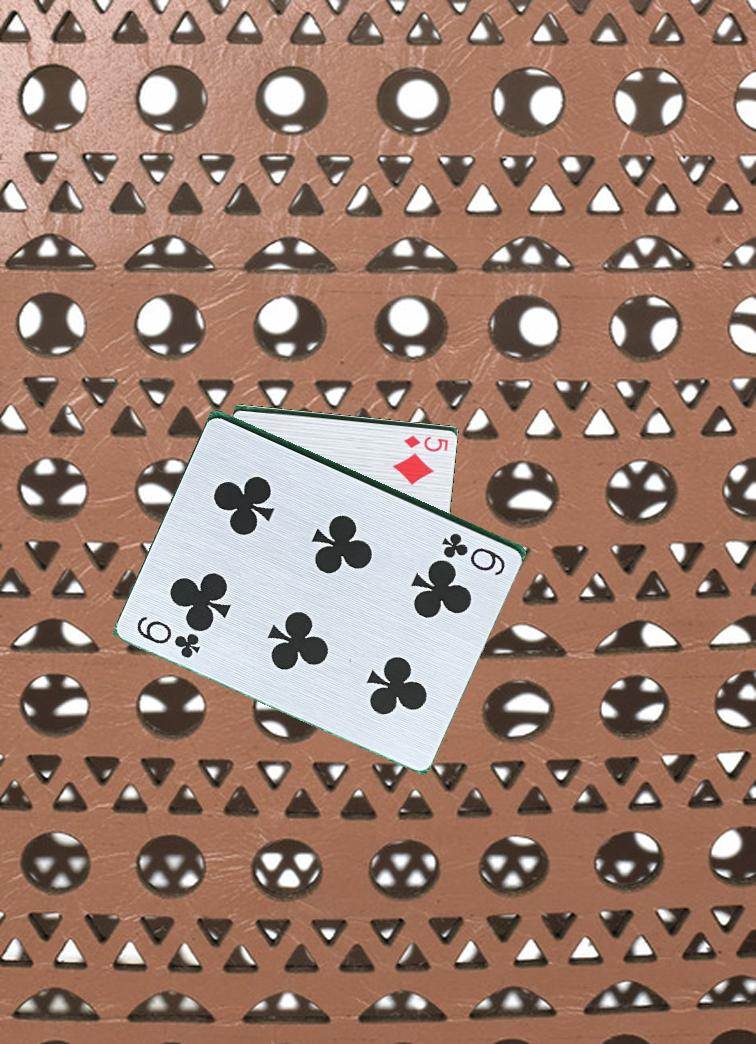5d: (400, 431, 452, 451)
6c: (130, 604, 211, 661), (439, 529, 509, 576)
